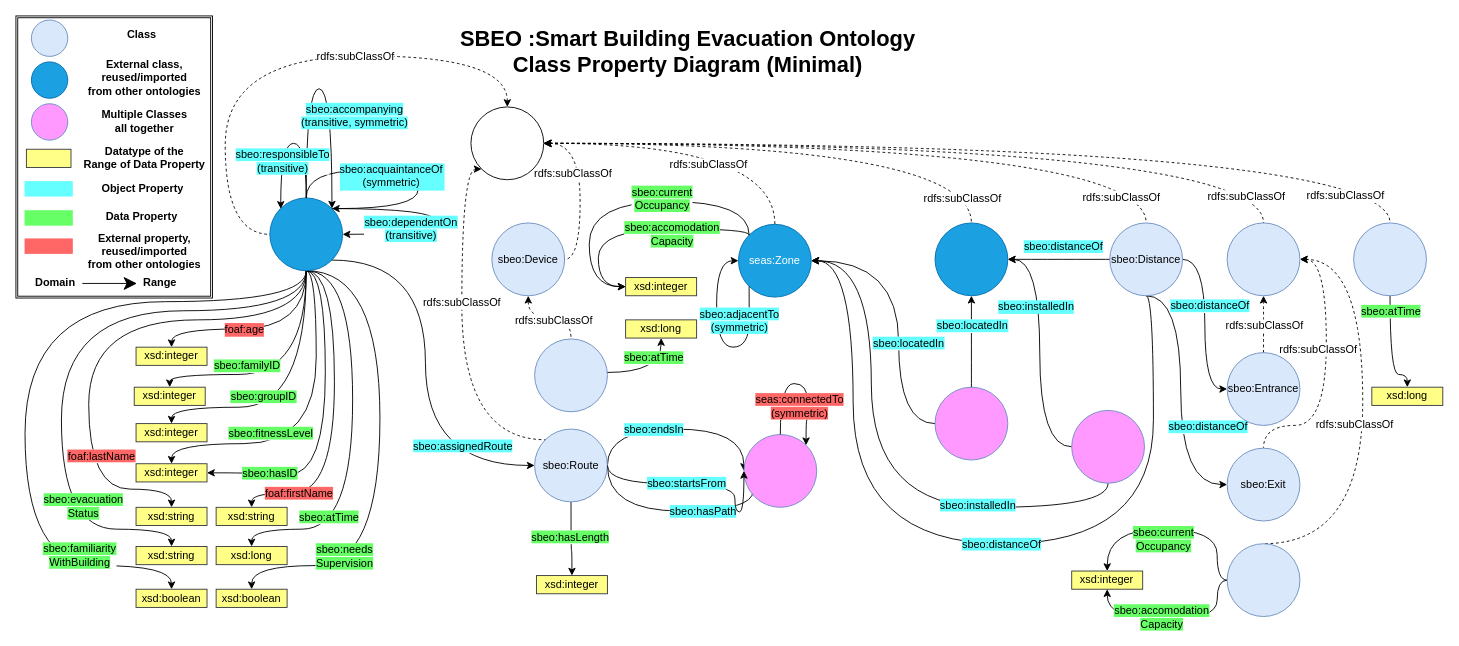
This 1459x646 diagram has some shape labels left out. The box of each missing label's shape, as (x1, y1, x2, y2) in pixels:
foaf:Person: (269, 197, 343, 271)
owl:Thing: (470, 106, 544, 180)
sbeo:Available: (1226, 543, 1300, 617)
sbeo:Device seas:ZoneConnection seas:Zone: (1071, 410, 1145, 483)
sbeo:Exit sbeo:Entrance seas:ZoneConnection seas:Zone foaf:Person sbeo:Incident: (934, 386, 1008, 460)
sbeo:Exit sbeo:Route sbeo:Entrance seas:ZoneConnection seas:Zone: (743, 434, 817, 507)
sbeo:Incident: (1353, 222, 1426, 296)
sbeo:Sensor: (534, 338, 607, 412)
sbeo:Space Characteristic: (1226, 222, 1300, 296)
seas:Zone Connection: (934, 222, 1008, 296)
